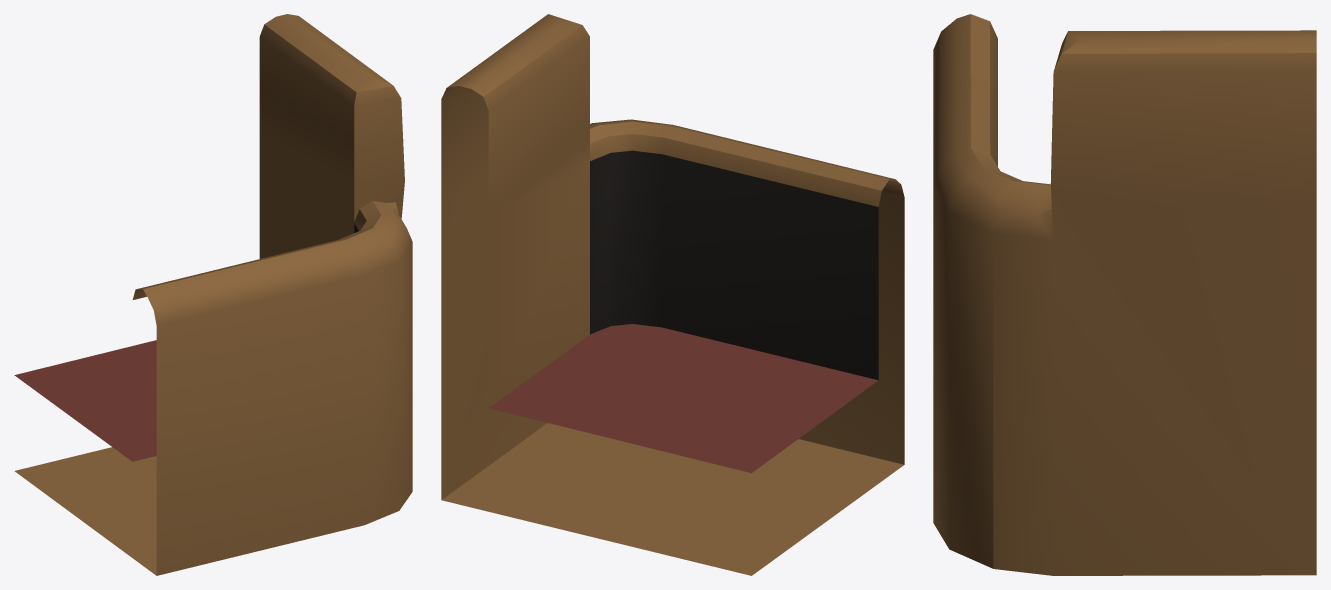
3 views of the same model, side by side, from view 1: azimuth 30°, elevation 25°; view 2: azimuth 150°, elevation 25°; view 3: azimuth 270°, elevation 25° (orthographic). The views are drawn at different scales.
Visible parts, largest first — view 1: box4; view 2: box4; view 3: box4.
Part boxes in pixels (x1=…): box4: x1=14, y1=14, x2=412, y2=575; box4: x1=441, y1=14, x2=904, y2=575; box4: x1=933, y1=14, x2=1316, y2=575.
Bounding box in the file's own units: 202 × 258 × 171.
